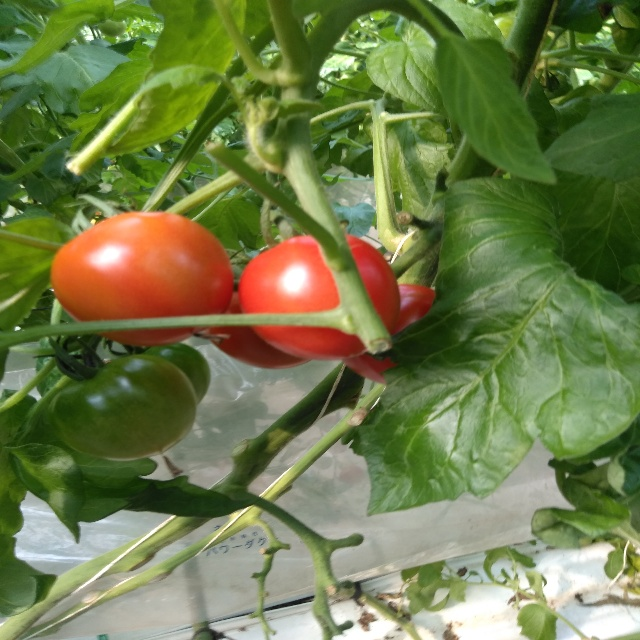l_fully_ripened: (239, 232, 402, 361), (206, 276, 314, 370), (343, 285, 435, 384)
l_green: (46, 354, 197, 461), (129, 342, 211, 407)
l_half_ripened: (50, 211, 234, 347)
